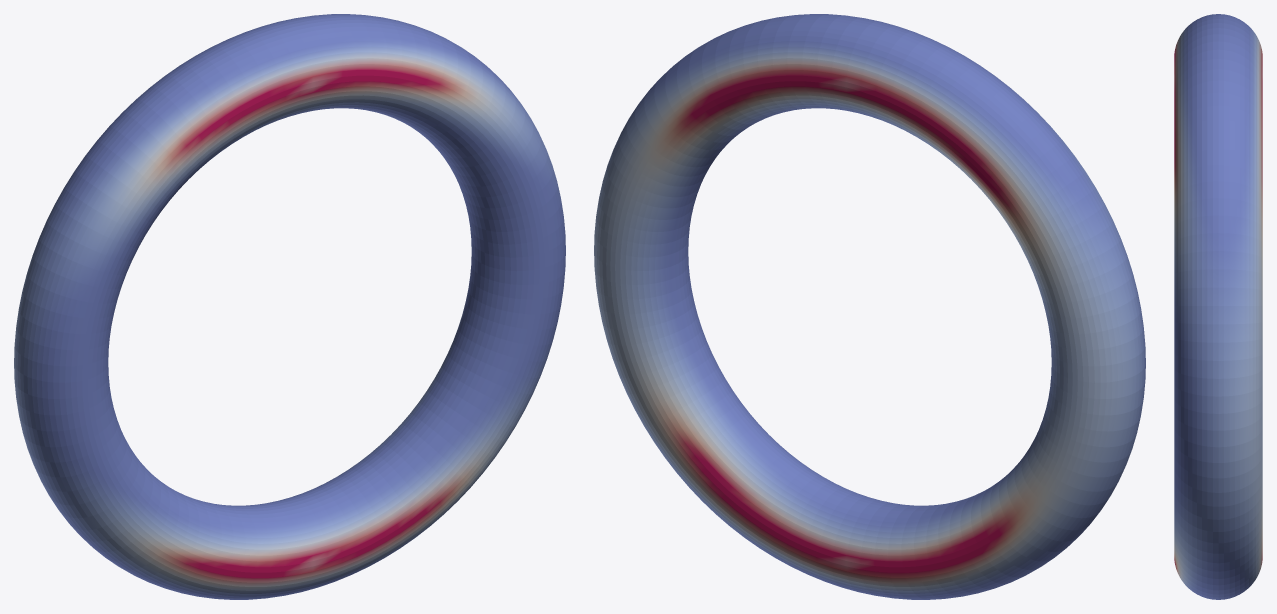
3 renders of one model, left to right at view 1: azimuth 30°, elevation 25°; view 2: azimuth 150°, elevation 25°; view 3: azimuth 270°, elevation 25°, orthographic. The views are drawn at different scales.
Visible parts, largest first — view 1: world; view 2: world; view 3: world.
Boxes of the visible parts, box(x1,y1,x2,y2) form: world: box(14, 14, 565, 599); world: box(594, 14, 1145, 599); world: box(1174, 14, 1262, 599).
Size of the model in its own units: 22 by 22 by 3.33.
